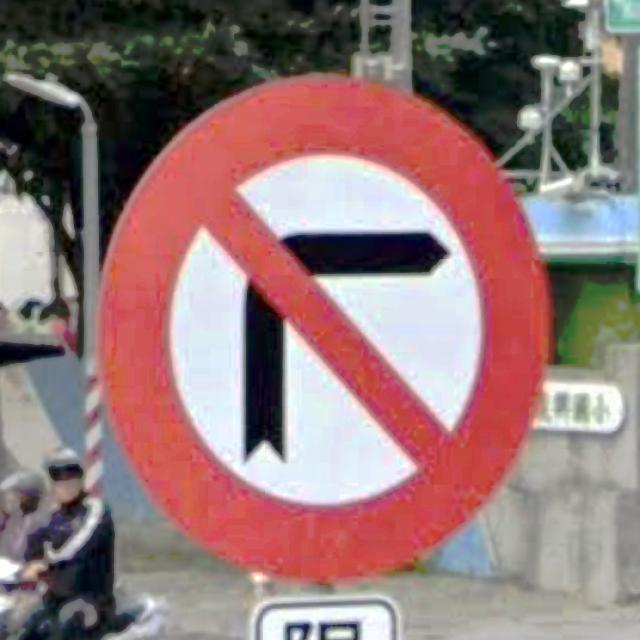noturnright: (97, 76, 554, 586)
